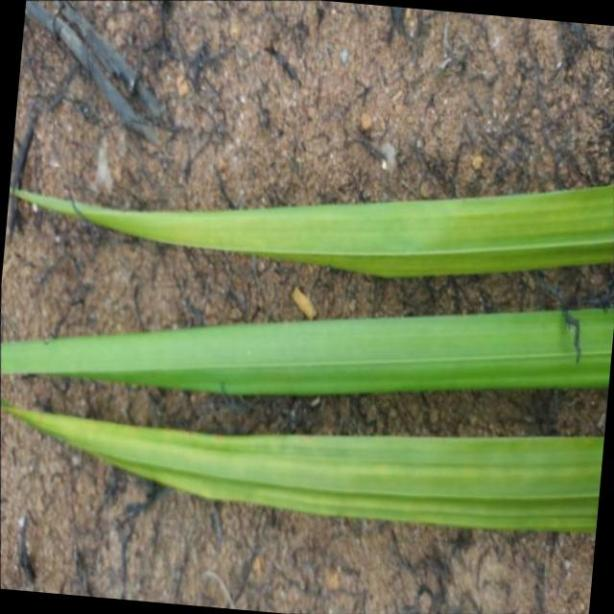nitrogen: (0, 406, 614, 552), (6, 182, 614, 278), (1, 300, 614, 395)
